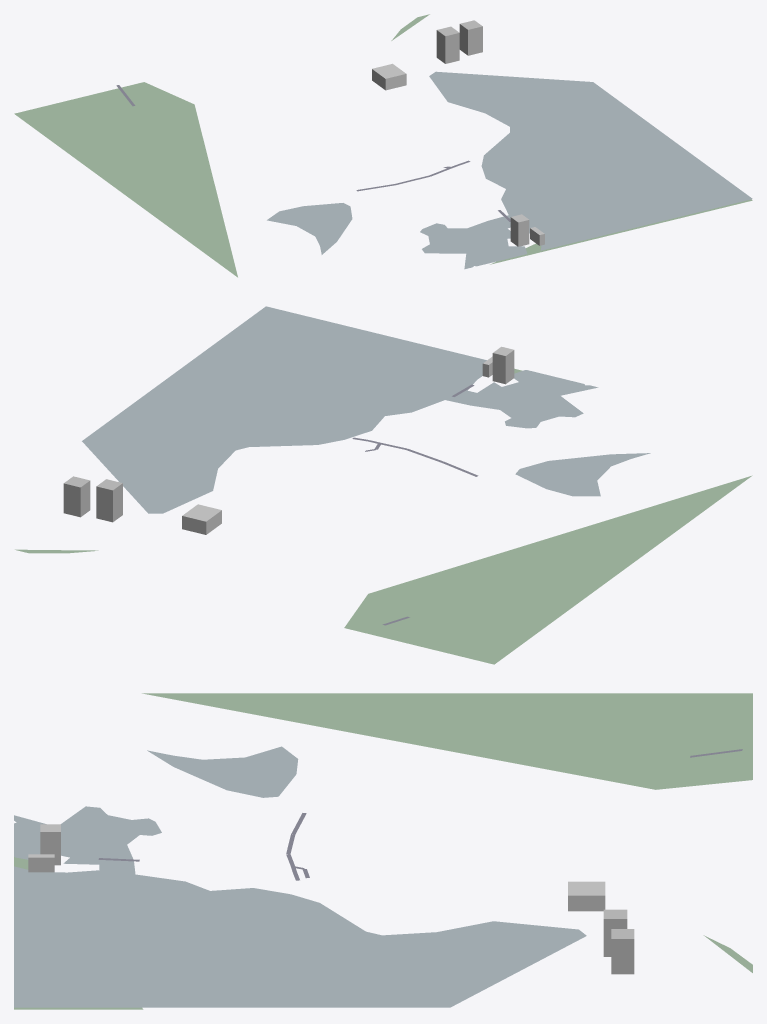
The model's file is 136_113_mid.glb.
3 views of the same model, one above another, from view 1: azimuth 30°, elevation 25°; view 2: azimuth 150°, elevation 25°; view 3: azimuth 270°, elevation 25° (orthographic). The views are drawn at different scales.
Bounding box in the file's own units: 500 × 29.18 × 500.
